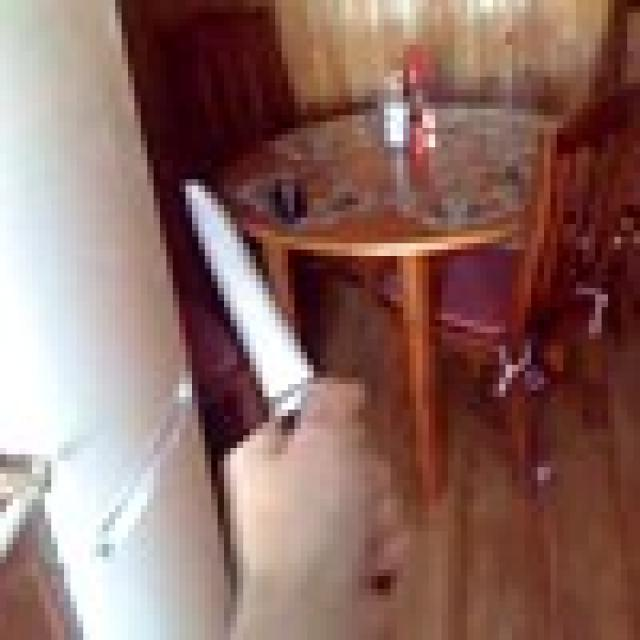knife: (180, 179, 390, 602)
